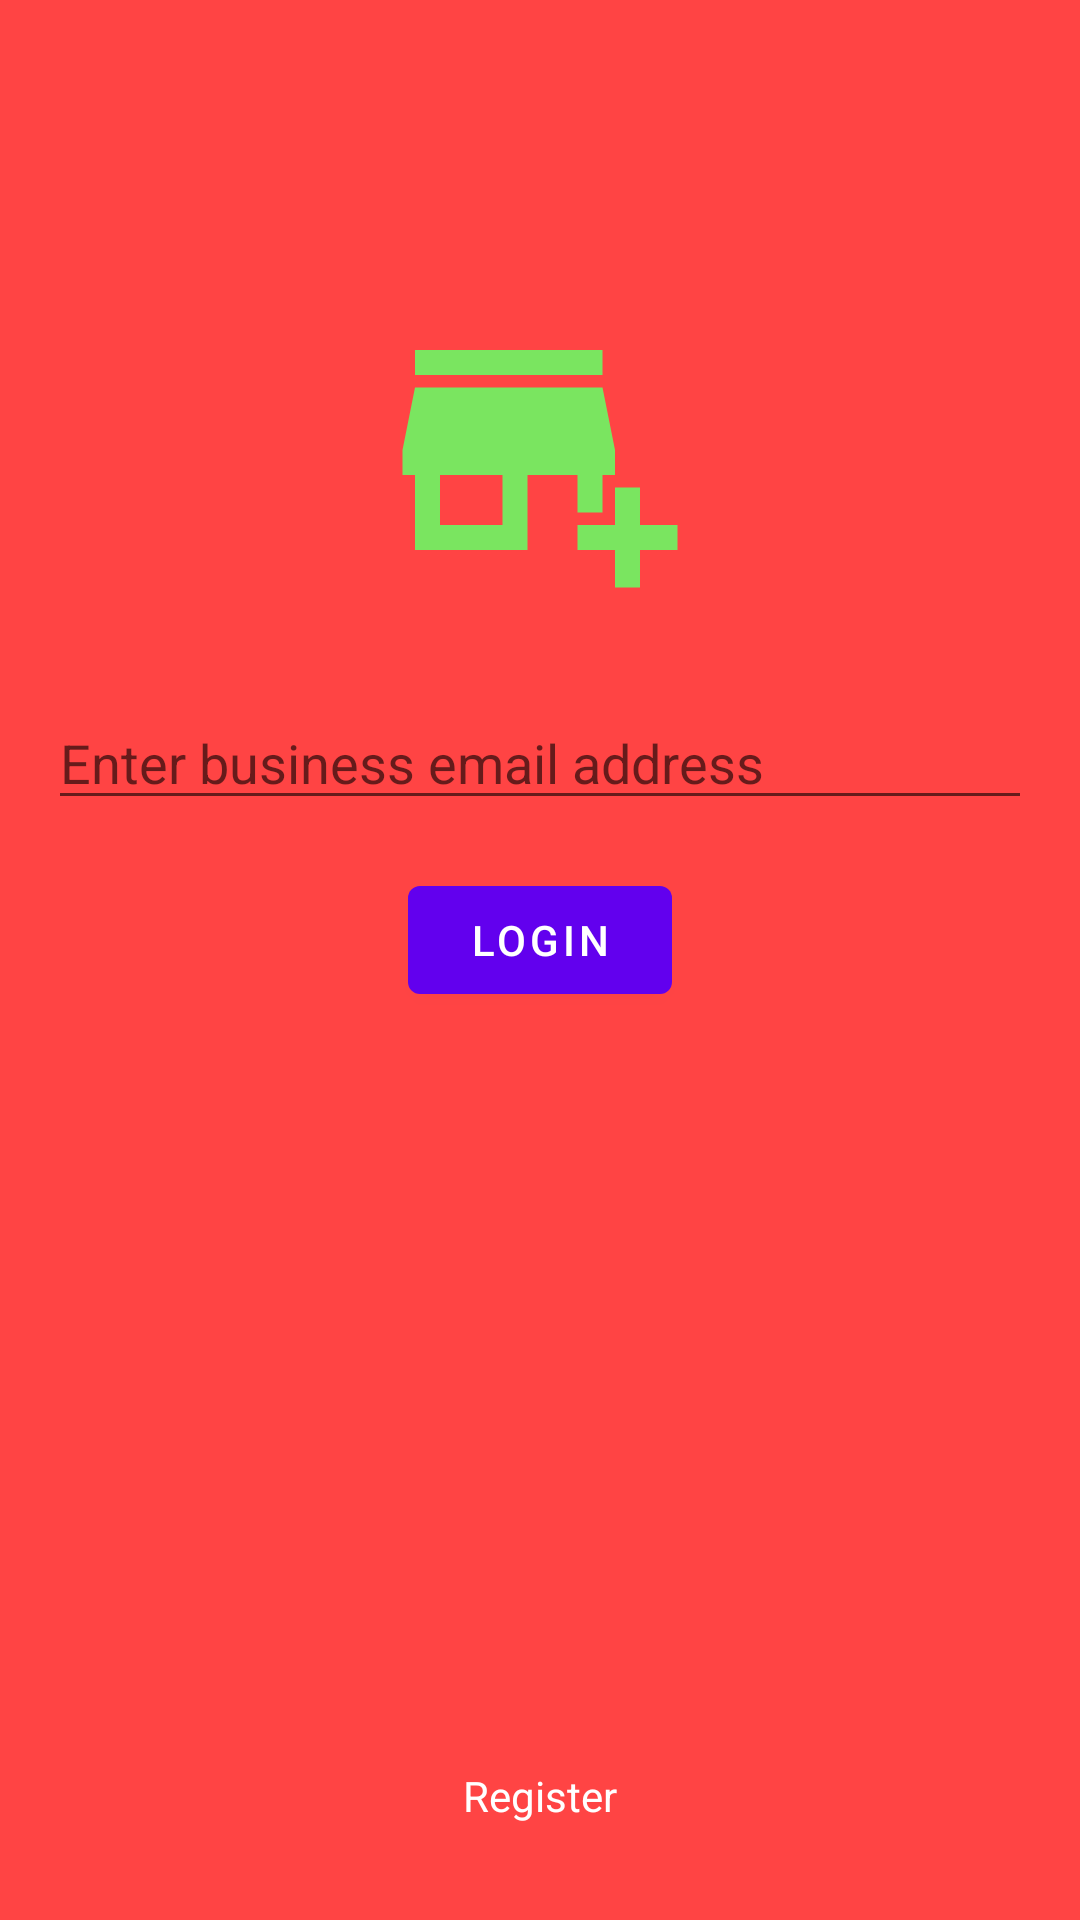

Where icons sit on this 1080 x 1920 app screen, as (left=x1, top=y1, right=x2, bottom=y2):
add business: (left=402, top=350, right=678, bottom=588)
